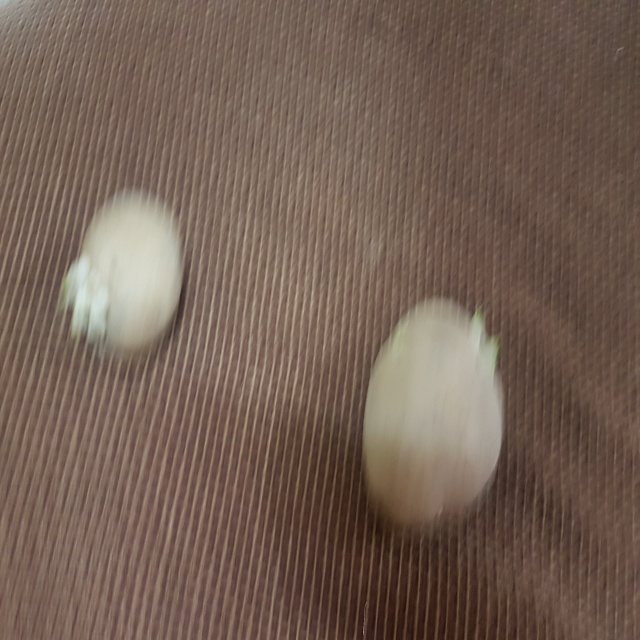potato: (352, 286, 523, 550), (50, 190, 208, 363)
